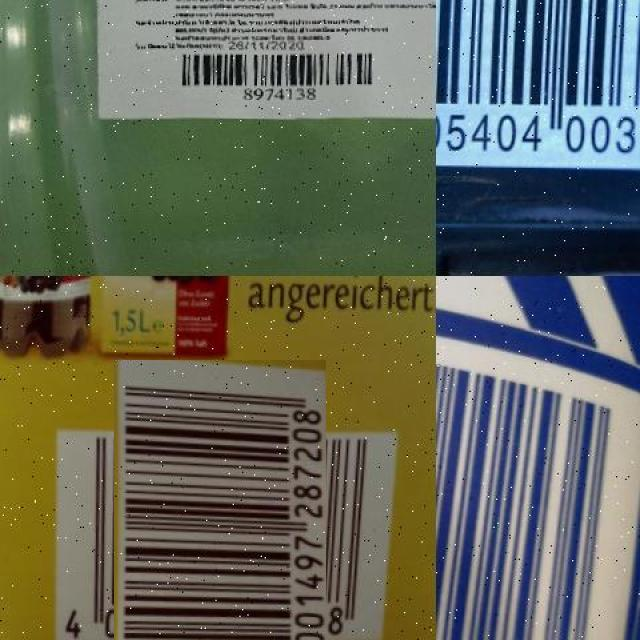Barcode: (436, 299, 640, 640), (80, 394, 360, 640), (436, 0, 640, 171), (168, 48, 380, 104)
